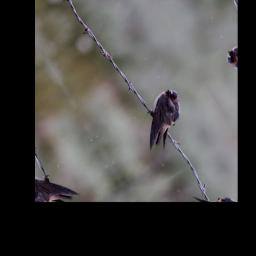Swallow: (127, 84, 200, 157)
